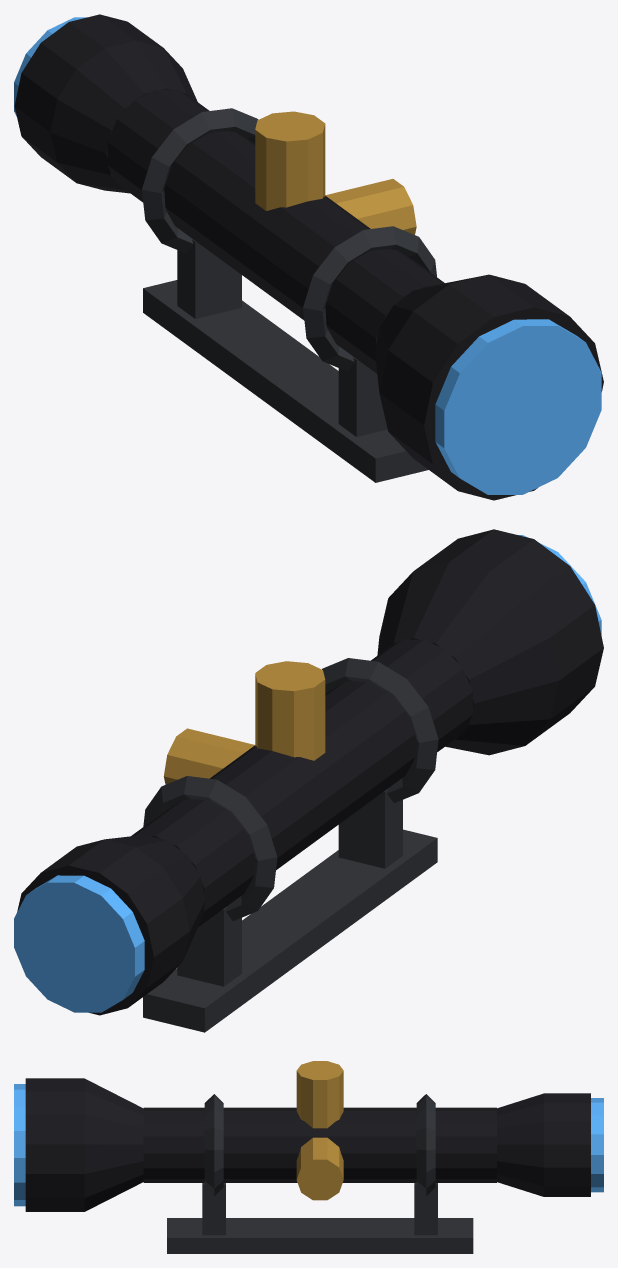
File: GearScope.obj
3 views of the same model, one above another, from view 1: azimuth 30°, elevation 25°; view 2: azimuth 150°, elevation 25°; view 3: azimuth 270°, elevation 25° (orthographic). The views are drawn at different scales.
Visible parts, largest first — view 1: GearScope; view 2: GearScope; view 3: GearScope.
Part boxes in pixels (x1,y1,x2,y2): GearScope: (14,14,603,500); GearScope: (14,529,603,1032); GearScope: (14,1061,603,1253).
Size of the model in its own units: 0.128 by 0.1625 by 0.501.
